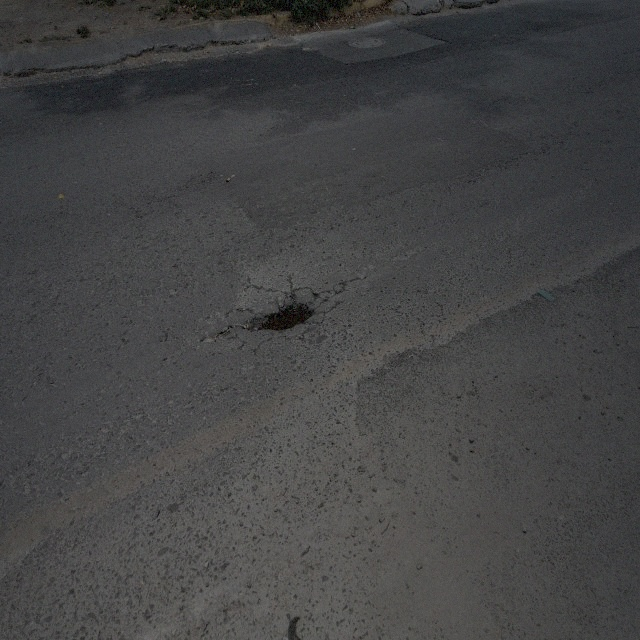pothole: (252, 296, 318, 336), (218, 324, 234, 342)
